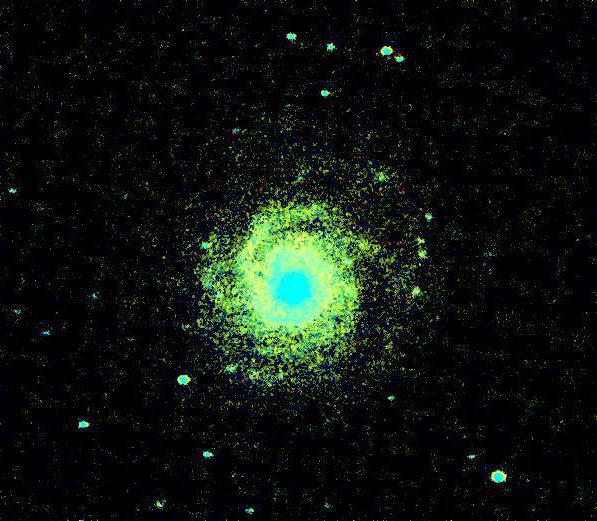star: (326, 277, 356, 307)
